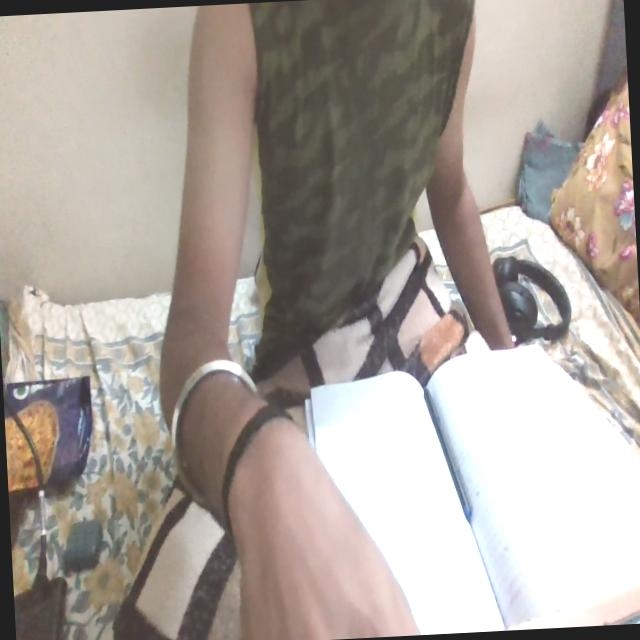book: (303, 330, 640, 636)
pen: (409, 382, 473, 526)
